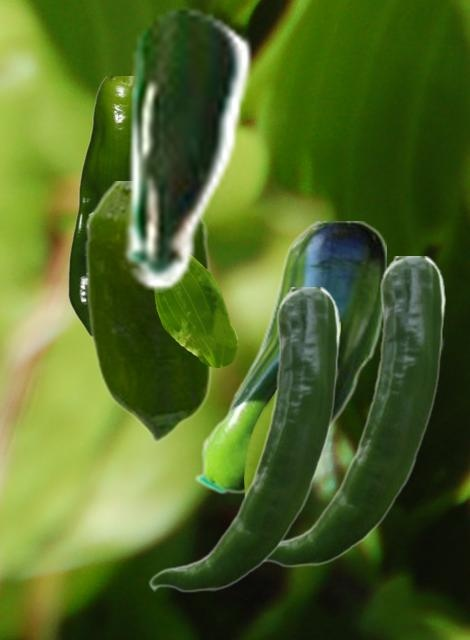green_chili: (148, 287, 340, 592), (267, 256, 445, 567), (194, 221, 385, 494), (117, 5, 253, 291), (84, 181, 211, 441), (67, 76, 129, 336)
